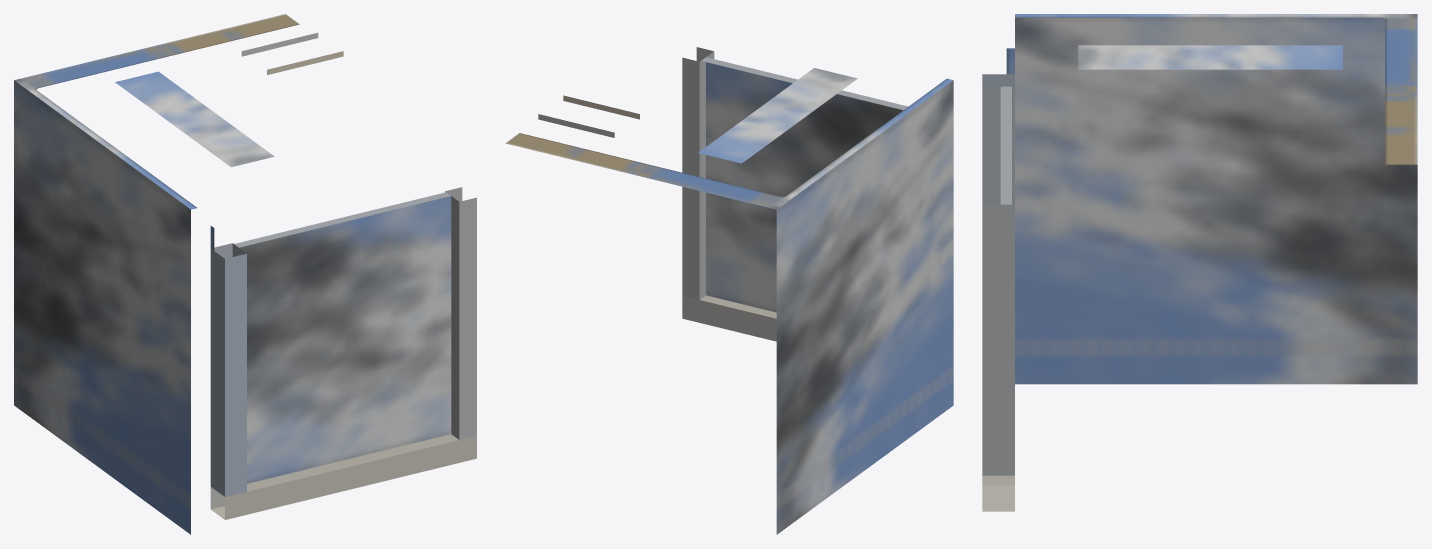
Rendered from section-2.obj.
3 renders of one model, left to right at view 1: azimuth 30°, elevation 25°; view 2: azimuth 150°, elevation 25°; view 3: azimuth 270°, elevation 25°, orthographic. The views are drawn at different scales.
Bounding box in the file's own units: 0.62 × 0.722 × 0.757.
